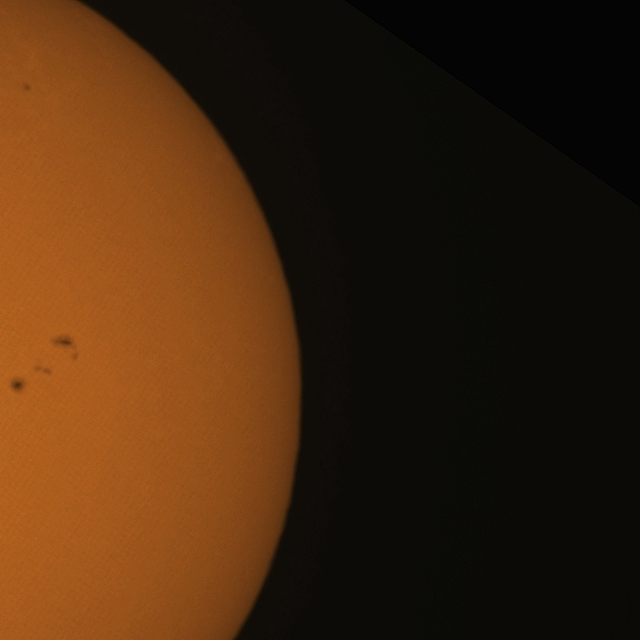sunspot: (8, 376, 27, 396), (34, 364, 53, 377), (21, 82, 32, 94)
